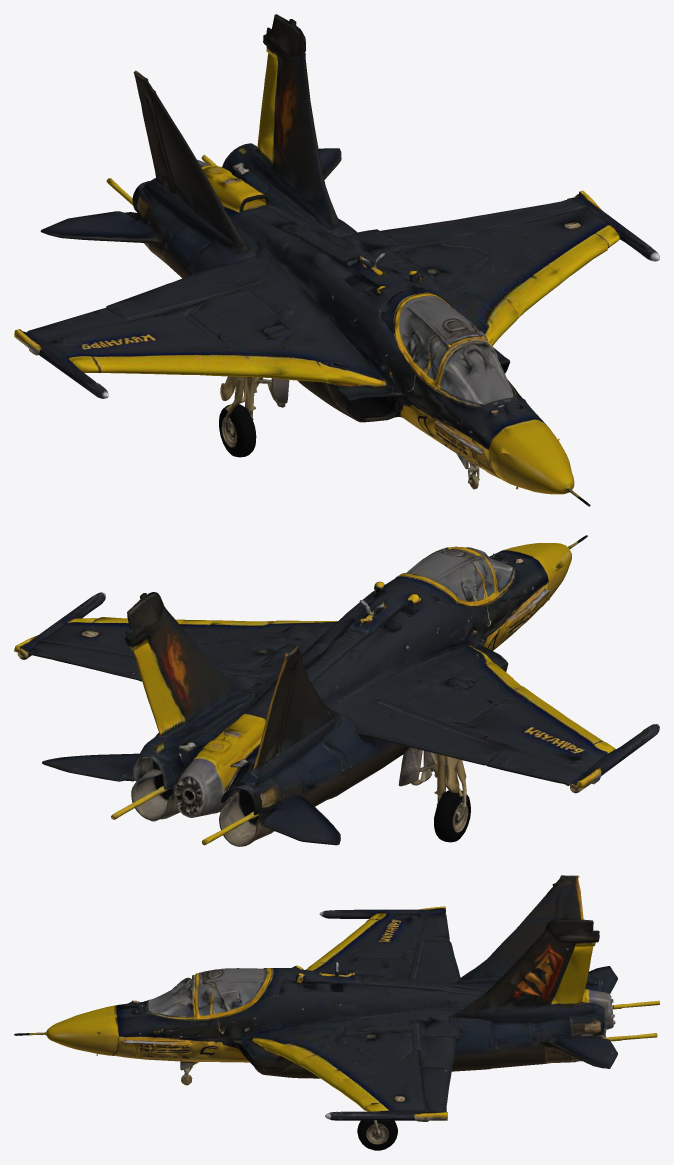
The model's file is falcon.lod1.glb.
3 renders of one model, top to bottom at view 1: azimuth 30°, elevation 25°; view 2: azimuth 150°, elevation 25°; view 3: azimuth 270°, elevation 25°, orthographic. The views are drawn at different scales.
Visible parts, largest first — view 1: tripo_node_0ef6bb45-339a-4f86-968f-4d7af5e9a18a; view 2: tripo_node_0ef6bb45-339a-4f86-968f-4d7af5e9a18a; view 3: tripo_node_0ef6bb45-339a-4f86-968f-4d7af5e9a18a.
Boxes of the visible parts, x1,y1,x2,y2 form: tripo_node_0ef6bb45-339a-4f86-968f-4d7af5e9a18a: [14, 14, 659, 506]; tripo_node_0ef6bb45-339a-4f86-968f-4d7af5e9a18a: [14, 535, 659, 846]; tripo_node_0ef6bb45-339a-4f86-968f-4d7af5e9a18a: [14, 875, 659, 1150].
Bounding box in the file's own units: 0.7482 × 0.3709 × 0.982.
1 material, 1 textured.
